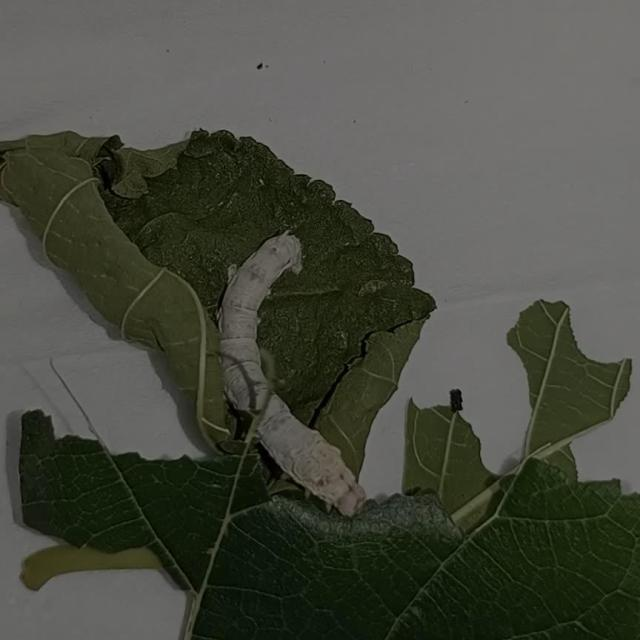Healthy: (206, 220, 378, 511)
